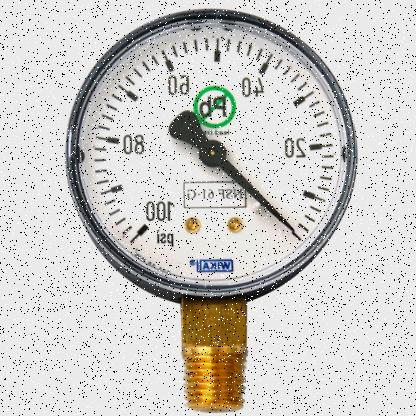needle: (217, 157, 295, 232)
